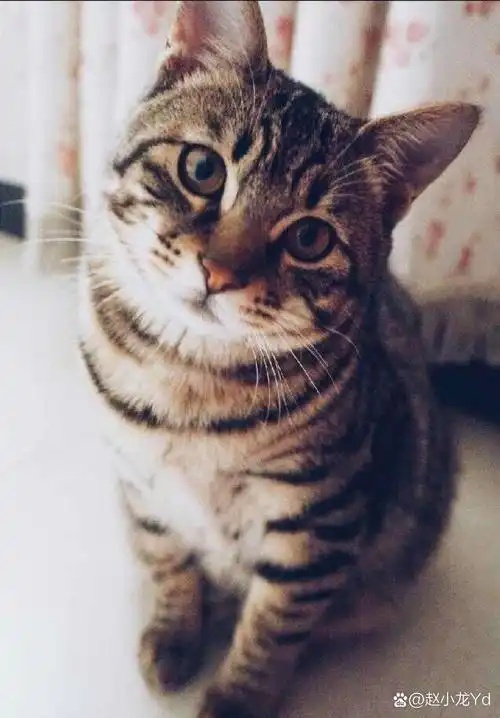狸花猫: (105, 2, 499, 365)
